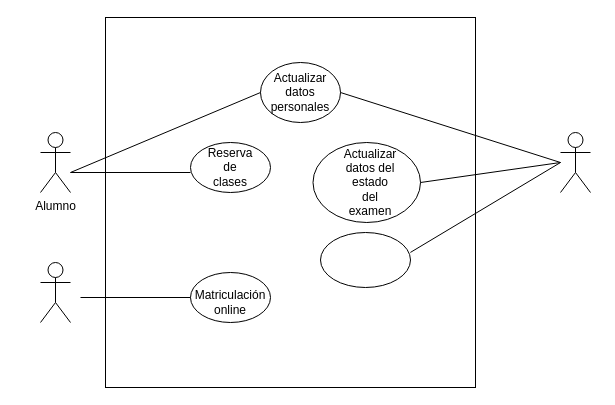
This 615x405 diagram has some shape labels left out. Each missing label, with the centre of its shape:
Dar de bajo alumno: pixel 365 260
Persona ajena: pixel 55 292
Profesor: pixel 575 162
